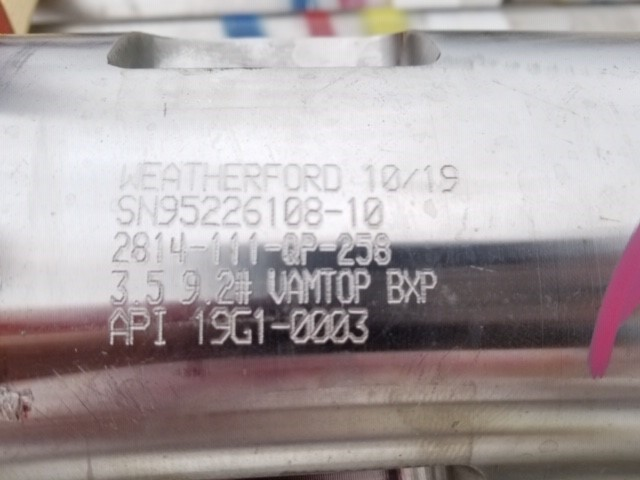character: (228, 305, 255, 349), (149, 307, 175, 351), (346, 307, 373, 349), (359, 192, 389, 229), (206, 304, 231, 348), (106, 307, 131, 349), (307, 308, 331, 350), (288, 308, 311, 350), (265, 267, 289, 307), (382, 268, 407, 306), (418, 266, 439, 310), (269, 308, 292, 348), (327, 307, 350, 347), (136, 194, 163, 228), (301, 158, 325, 196), (106, 269, 130, 307), (260, 160, 286, 195), (180, 267, 202, 308), (322, 193, 347, 229), (352, 229, 375, 268), (375, 162, 402, 195), (129, 307, 149, 351), (352, 268, 373, 309), (114, 192, 139, 226), (438, 161, 462, 196), (241, 193, 265, 228), (281, 192, 305, 227), (318, 267, 339, 307), (178, 193, 201, 229), (398, 162, 422, 196), (199, 193, 223, 227), (141, 155, 163, 192), (111, 229, 133, 266), (144, 269, 166, 306), (221, 193, 244, 228), (260, 229, 281, 267), (180, 159, 204, 192), (215, 269, 237, 305), (302, 267, 322, 306), (335, 268, 355, 307), (285, 268, 306, 305), (317, 232, 339, 267), (221, 160, 245, 192), (130, 229, 150, 267), (149, 229, 169, 267), (186, 229, 206, 267), (224, 227, 243, 267), (298, 230, 318, 268), (374, 229, 394, 267), (322, 159, 343, 195), (166, 230, 187, 266), (403, 266, 422, 305), (281, 229, 301, 266), (243, 226, 261, 267), (161, 160, 184, 192), (252, 305, 268, 351), (283, 161, 304, 196), (118, 162, 144, 190), (191, 303, 207, 348), (158, 194, 179, 228), (337, 231, 356, 268), (201, 159, 222, 192), (234, 269, 252, 307), (242, 159, 261, 194), (304, 194, 323, 229), (208, 227, 224, 266), (419, 161, 437, 195), (264, 194, 281, 228), (362, 162, 378, 196), (346, 192, 361, 227)
